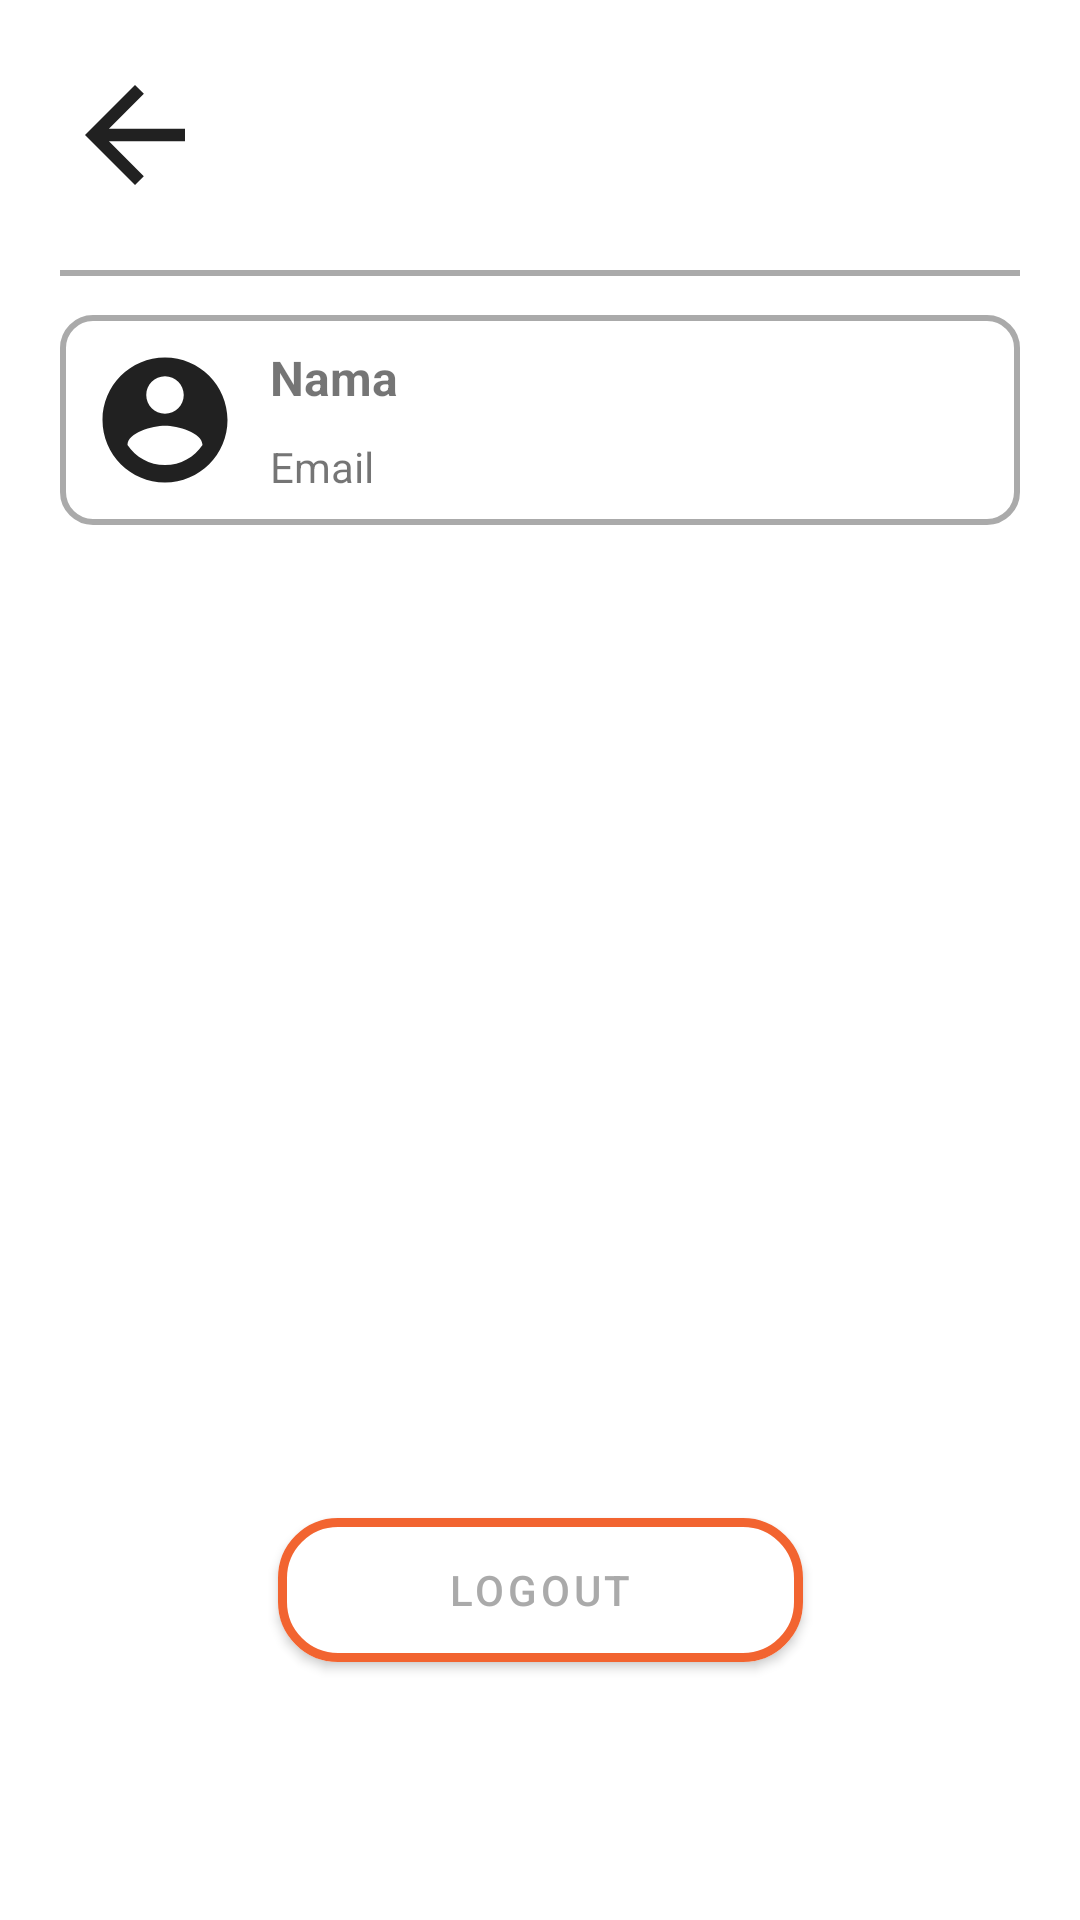

Named icons in this screenshot (1080×1920) and their bounding boxes, [x1, y1, x2, y2]:
account circle: [102, 357, 228, 483]
back: [85, 85, 185, 185]
